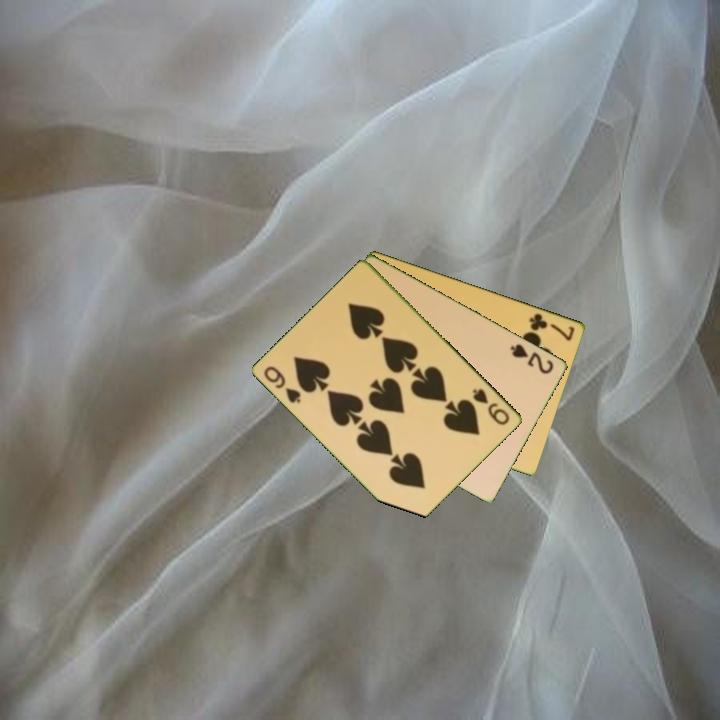2s: (507, 340, 557, 377)
7c: (526, 309, 578, 343)
9s: (469, 385, 513, 428), (261, 362, 304, 406)
